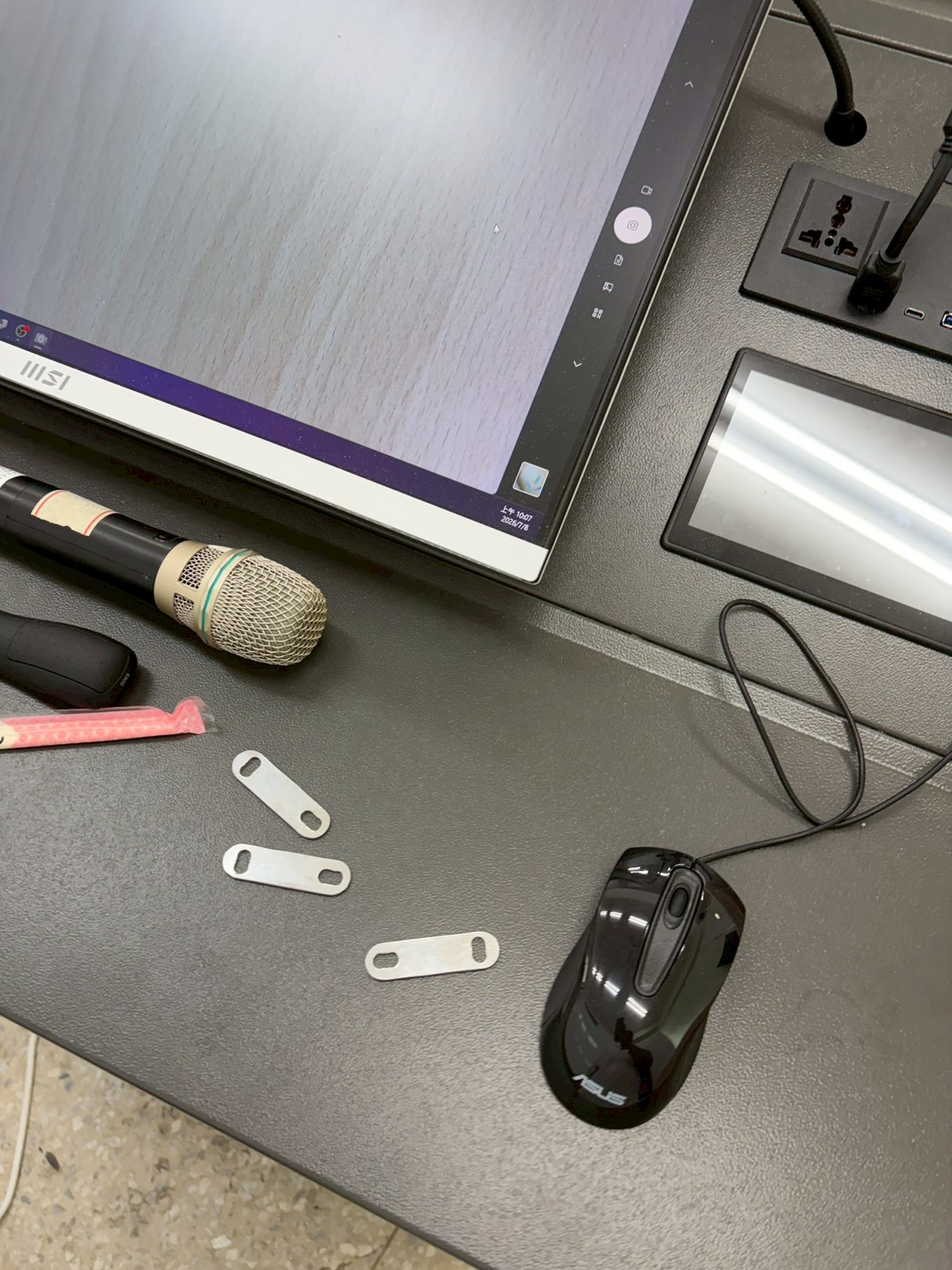Fe: (228, 744, 333, 840), (216, 845, 350, 909), (361, 925, 499, 987)
